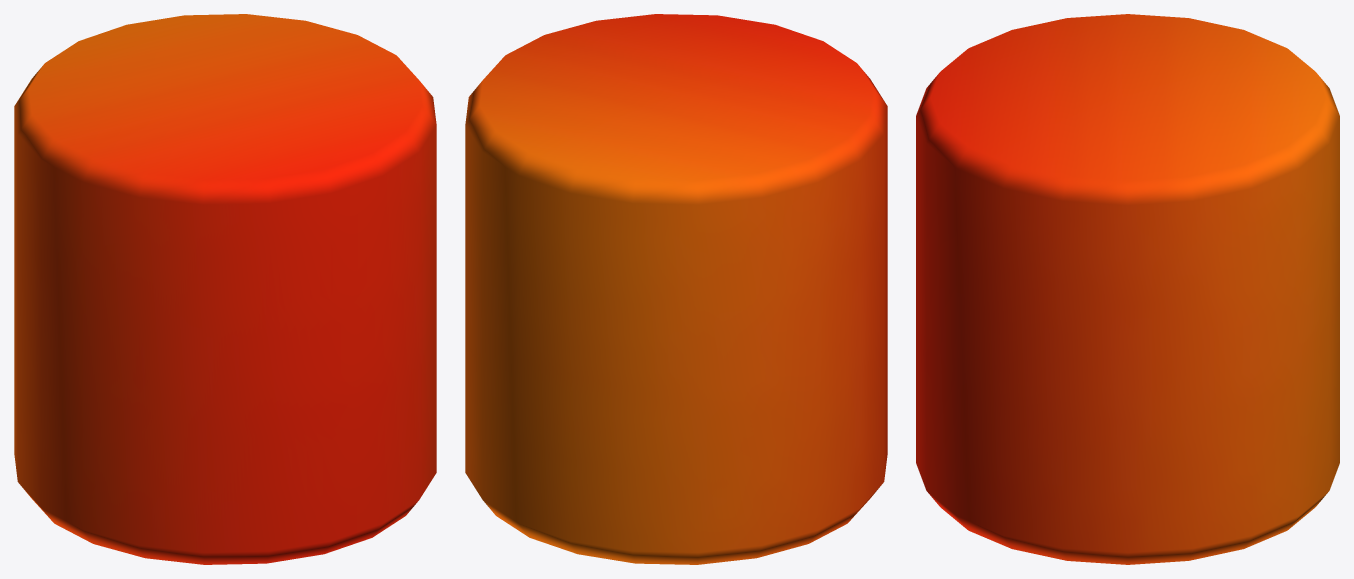
The model's file is towers.fbx.
3 renders of one model, left to right at view 1: azimuth 30°, elevation 25°; view 2: azimuth 150°, elevation 25°; view 3: azimuth 270°, elevation 25°, orthographic.
Visible parts, largest first — view 1: Tower_red; view 2: Tower_red; view 3: Tower_red.
Boxes of the visible parts, x1,y1,x2,y2 form: Tower_red: (14, 14, 436, 564); Tower_red: (465, 14, 887, 564); Tower_red: (916, 14, 1339, 564).
Size of the model in its own units: 1.99 by 1.99 by 1.99.
